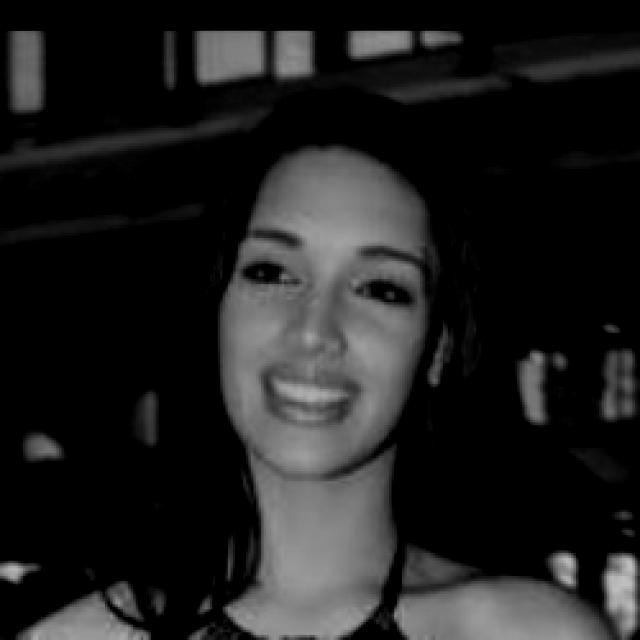real: (216, 142, 441, 477), (237, 243, 413, 311)
